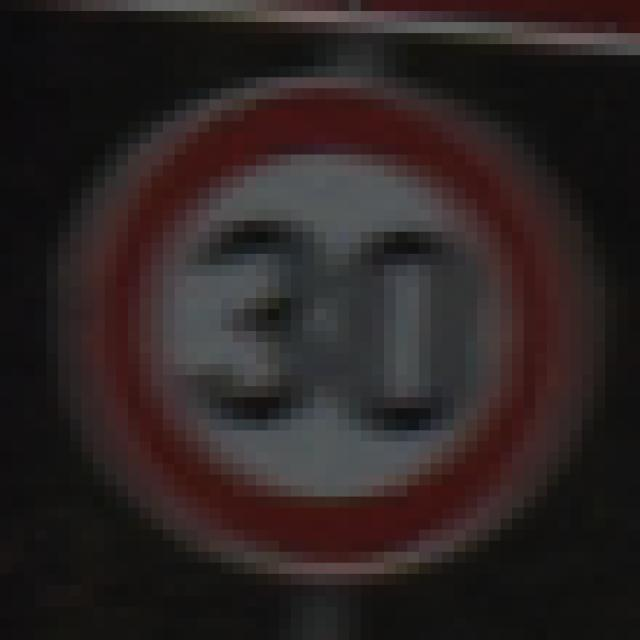Speed Limit -30-: (58, 66, 570, 574)
